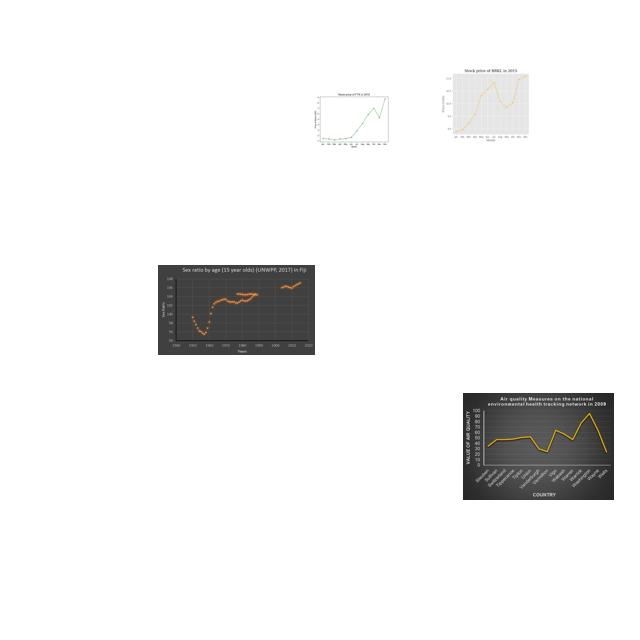Graph: (463, 393, 614, 500), (158, 265, 315, 355), (437, 64, 542, 143), (309, 86, 397, 152)
